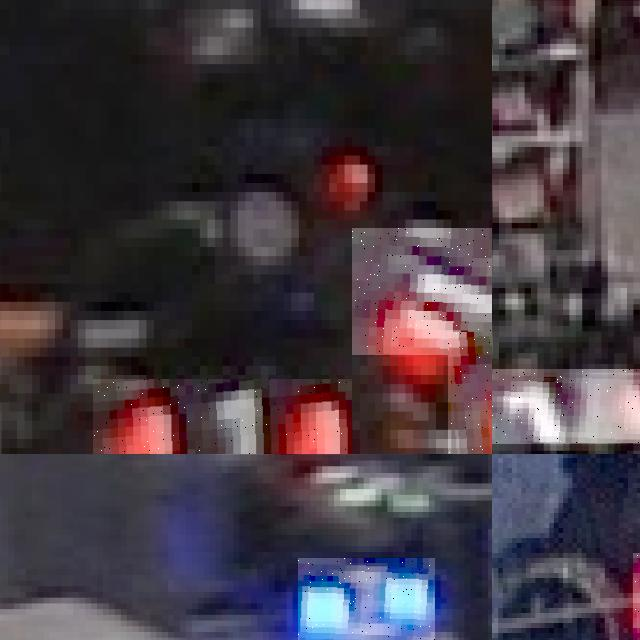B2: (298, 557, 434, 640)
R1: (93, 379, 352, 454), (352, 228, 492, 356), (492, 369, 640, 445), (447, 334, 492, 454)
